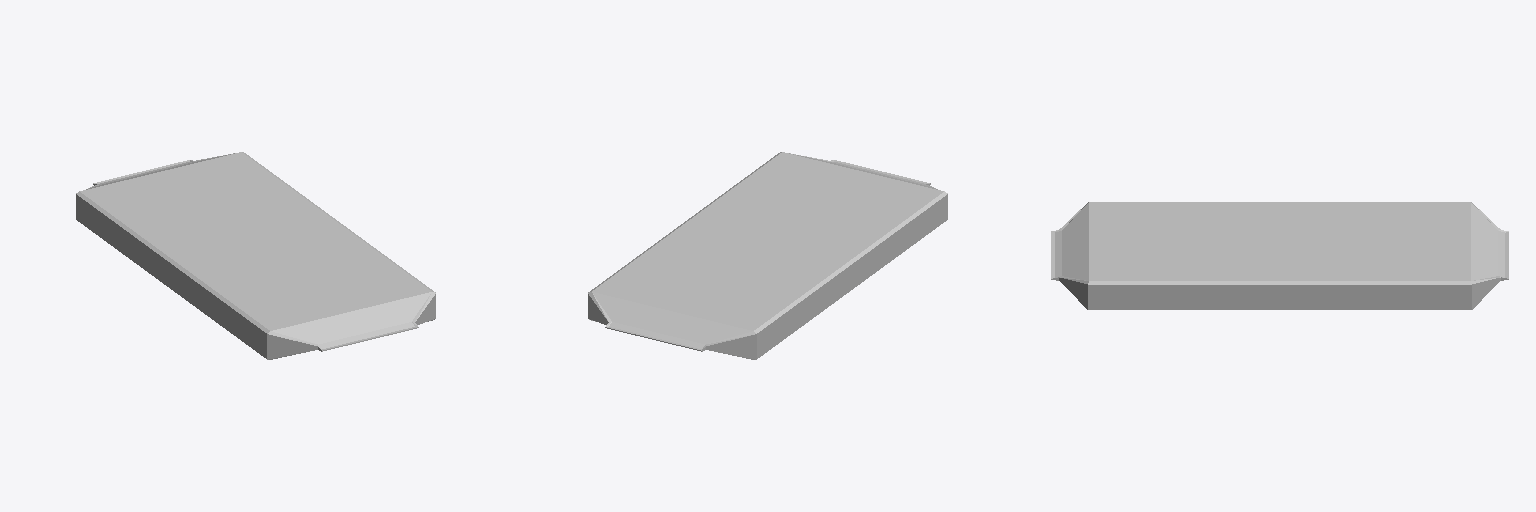
Rendered from PacketBox.obj.
3 views of the same model, side by side, from view 1: azimuth 30°, elevation 25°; view 2: azimuth 150°, elevation 25°; view 3: azimuth 270°, elevation 25° (orthographic).
Parts seen in each view (by area): view 1: Cube; view 2: Cube; view 3: Cube.
Boxes of the visible parts, box(x1,y1,x2,y2) form: Cube: box(76, 152, 435, 359); Cube: box(588, 152, 947, 359); Cube: box(1051, 202, 1508, 309).
Bounding box in the file's own units: 0.9782 × 0.1598 × 2.29.